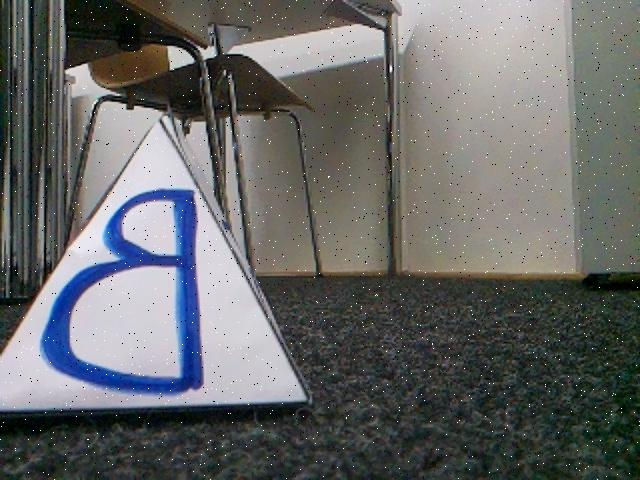B: (0, 116, 312, 413)
